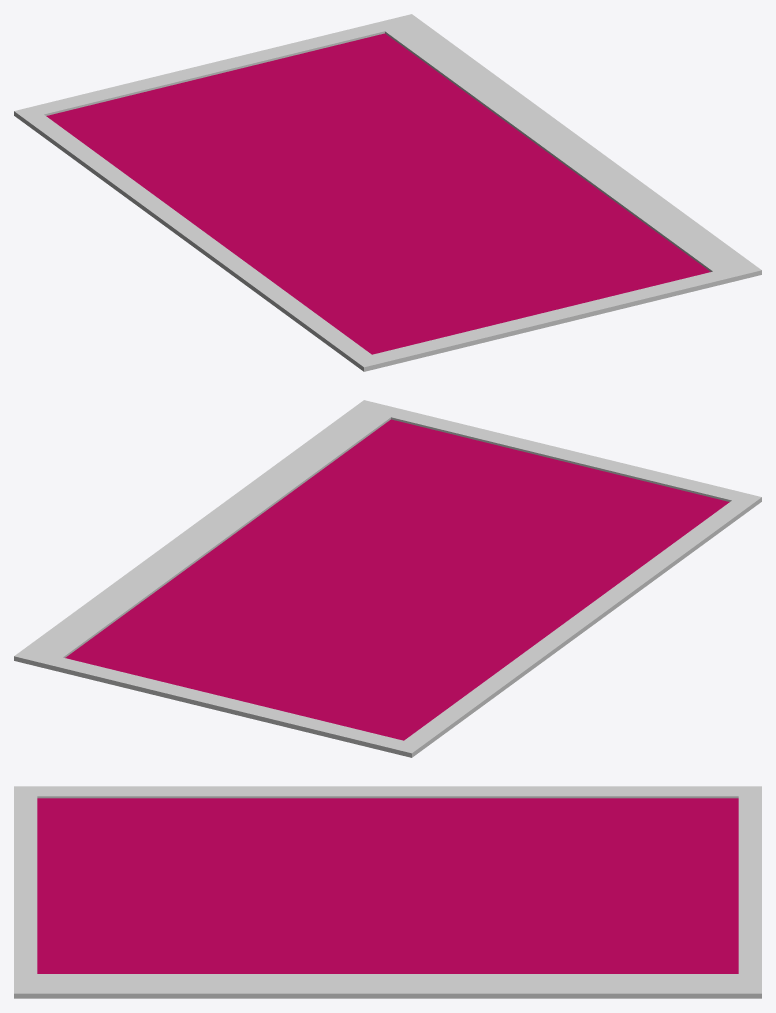
File: photograph.fbx
3 views of the same model, one above another, from view 1: azimuth 30°, elevation 25°; view 2: azimuth 150°, elevation 25°; view 3: azimuth 270°, elevation 25° (orthographic). The views are drawn at different scales.
Parts seen in each view (by area): view 1: photograph; view 2: photograph; view 3: photograph.
Boxes of the visible parts, x1,y1,x2,y2 form: photograph: (14,14,761,371); photograph: (14,400,761,757); photograph: (14,786,761,998).
Bounding box in the file's own units: 131 × 1.45 × 200.
